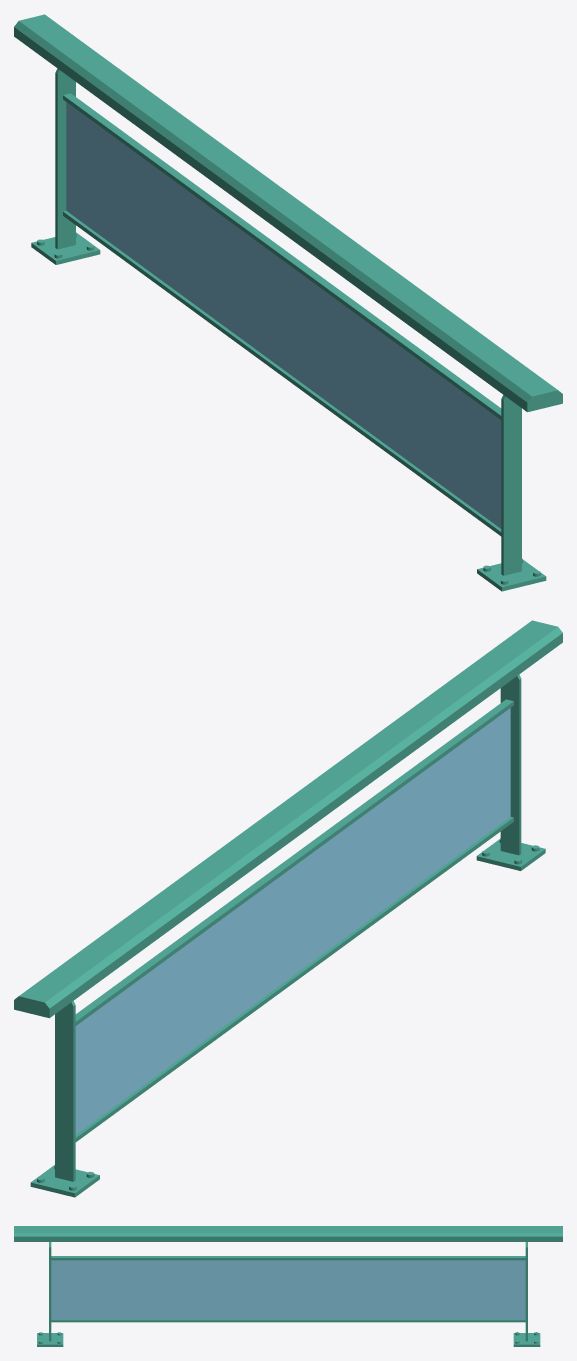
The model's file is Fence_05.FBX.
3 renders of one model, top to bottom at view 1: azimuth 30°, elevation 25°; view 2: azimuth 150°, elevation 25°; view 3: azimuth 270°, elevation 25°, orthographic. The views are drawn at different scales.
Parts seen in each view (by area): view 1: Fence_05; view 2: Fence_05; view 3: Fence_05.
Boxes of the visible parts, box(x1,y1,x2,y2) form: Fence_05: box(14, 14, 562, 591); Fence_05: box(14, 620, 562, 1197); Fence_05: box(14, 1226, 562, 1346).
Size of the model in its own units: 0.3 by 1.34 by 6.
